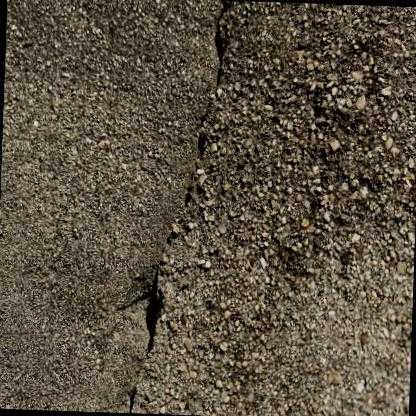crack: (182, 0, 234, 207), (143, 271, 163, 356)
